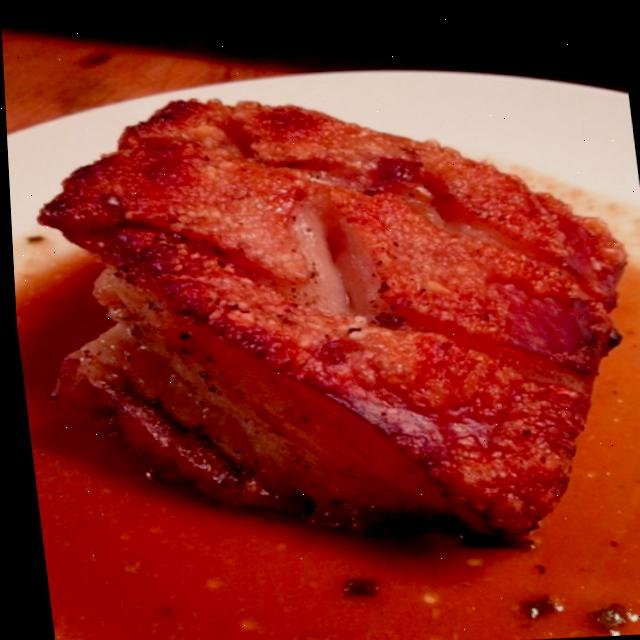牛肉菜式: (2, 50, 640, 602)
